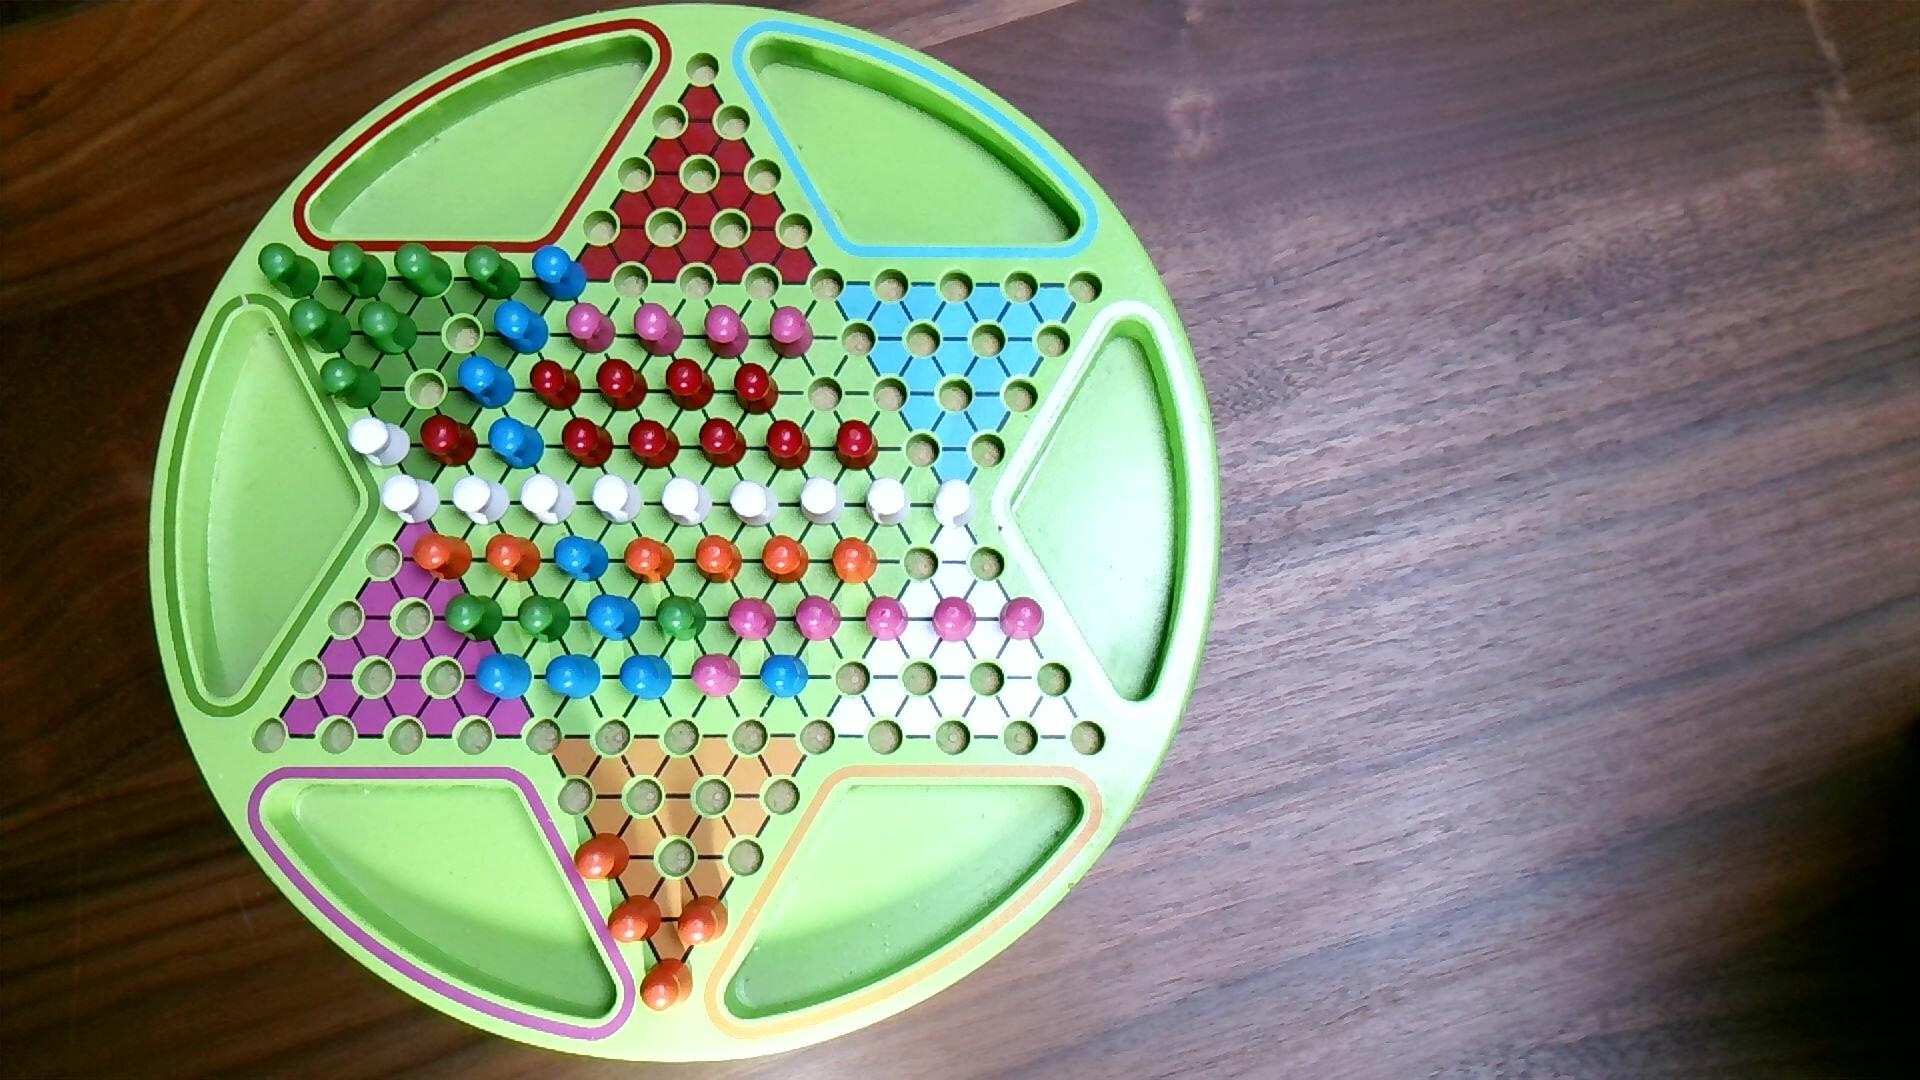B: (492, 298, 553, 359), (458, 353, 518, 413), (487, 415, 547, 473), (531, 244, 589, 305), (475, 651, 534, 705), (584, 592, 644, 644), (617, 653, 675, 703), (554, 535, 612, 585), (545, 653, 604, 702), (760, 653, 812, 702)
G: (327, 236, 389, 303), (257, 239, 322, 301), (289, 295, 355, 356), (357, 295, 419, 357), (392, 240, 455, 301), (319, 356, 385, 413), (464, 243, 522, 303), (442, 591, 506, 645), (517, 593, 574, 646), (654, 593, 709, 645)
O: (411, 531, 476, 583), (484, 531, 545, 585), (640, 957, 696, 1014), (574, 831, 632, 884), (676, 894, 731, 949), (607, 893, 663, 945), (622, 535, 676, 588), (761, 533, 812, 587), (694, 533, 744, 587), (829, 535, 881, 587)
R: (419, 413, 481, 469), (596, 356, 651, 414), (626, 417, 682, 472), (529, 357, 584, 413), (560, 415, 617, 469), (665, 357, 717, 413), (764, 417, 814, 475), (698, 415, 750, 469), (831, 419, 882, 475), (732, 363, 782, 417)
R2: (632, 301, 687, 359), (564, 301, 618, 356), (704, 303, 752, 363), (769, 305, 816, 363), (690, 651, 744, 702), (727, 595, 779, 644), (794, 593, 844, 644), (932, 595, 978, 645), (1000, 596, 1047, 644), (864, 595, 910, 644)
W: (347, 415, 414, 469), (518, 472, 580, 529), (451, 473, 513, 529), (381, 473, 443, 527), (591, 472, 647, 527), (659, 475, 715, 529), (727, 476, 781, 529), (862, 476, 913, 530), (931, 476, 978, 533), (798, 473, 847, 527)
